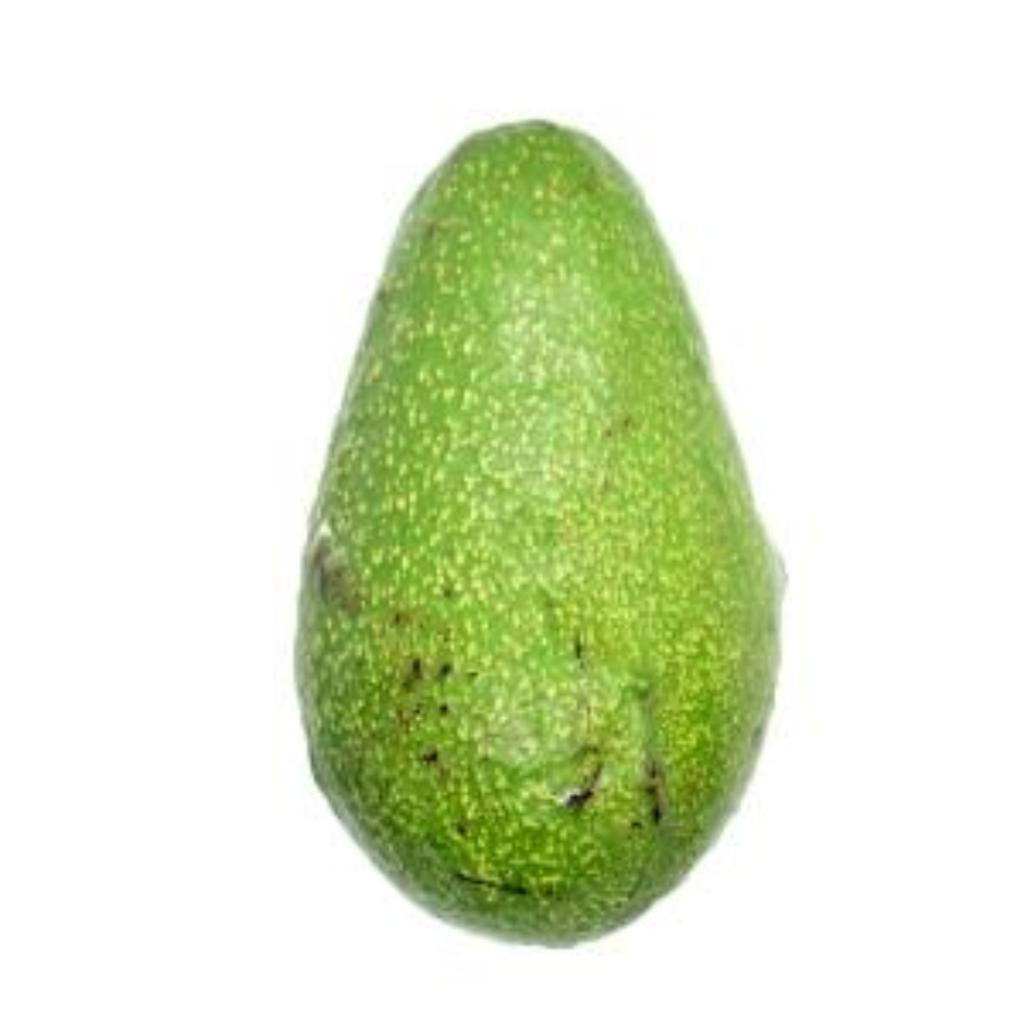cercospora_spot: (282, 109, 794, 959)
